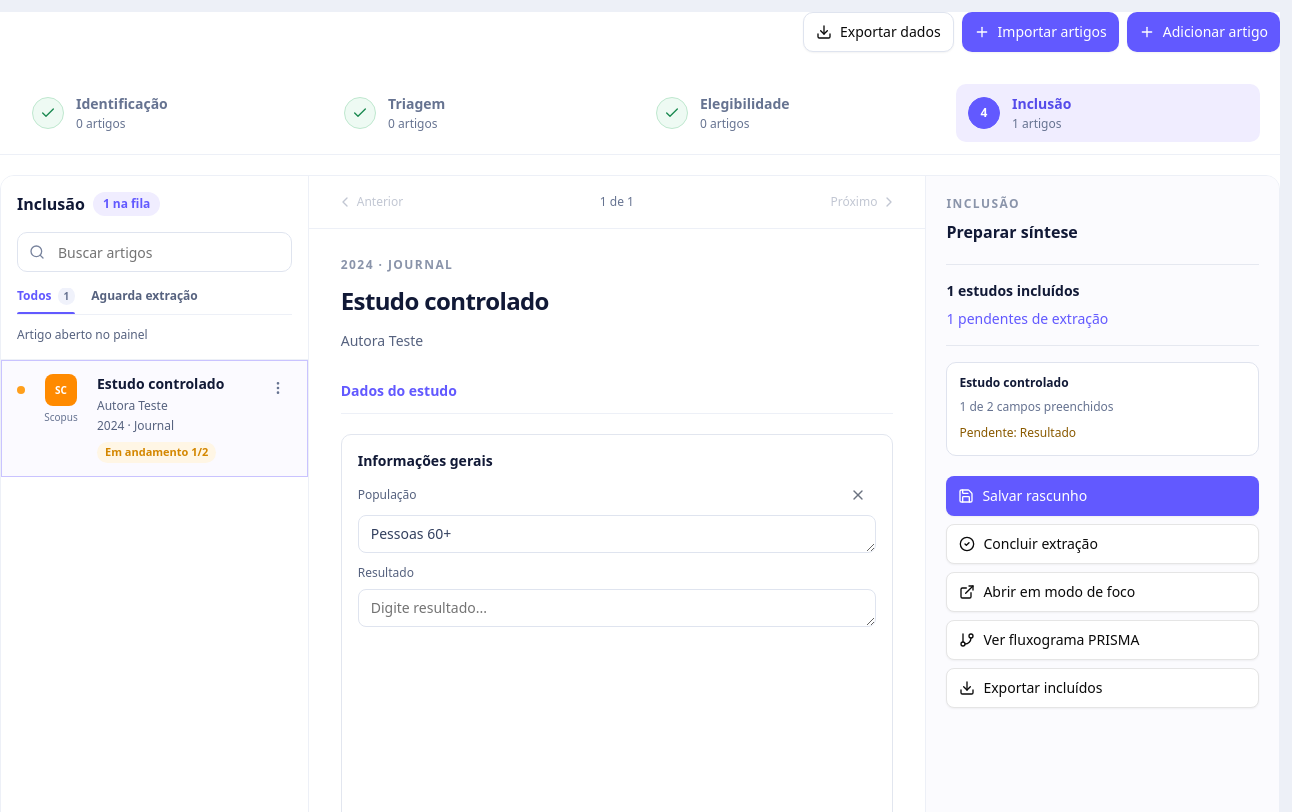
Test case: ProjectArticles work queue › saves included-study extraction inside the workspace and refreshes queue progress
This screenshot has width=1292, height=812.
Type "Melhora significativa" into the text box with placeholder "Digite resultado...". click: (617, 608)
box: [358,589,876,627]
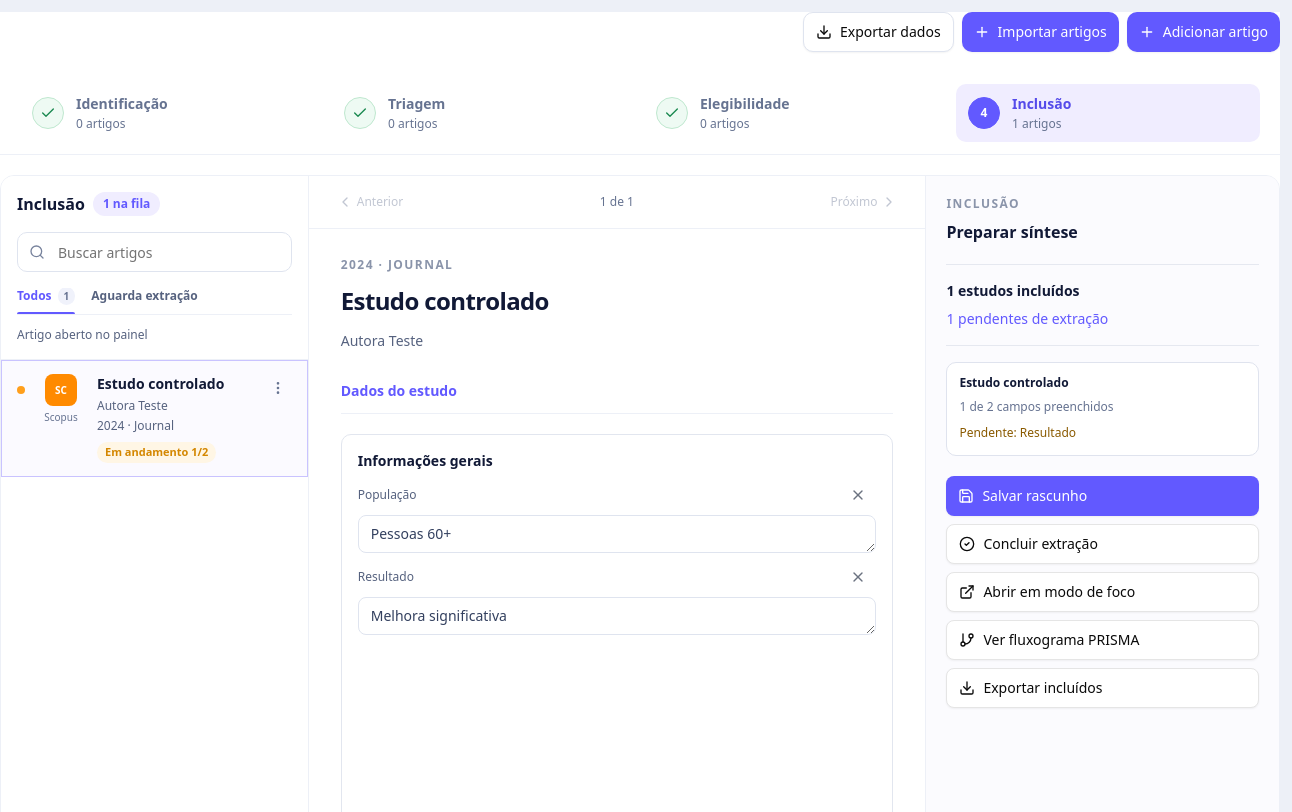
Click the button "Salvar rascunho". click: (1035, 496)
box: [946,476,1259,516]
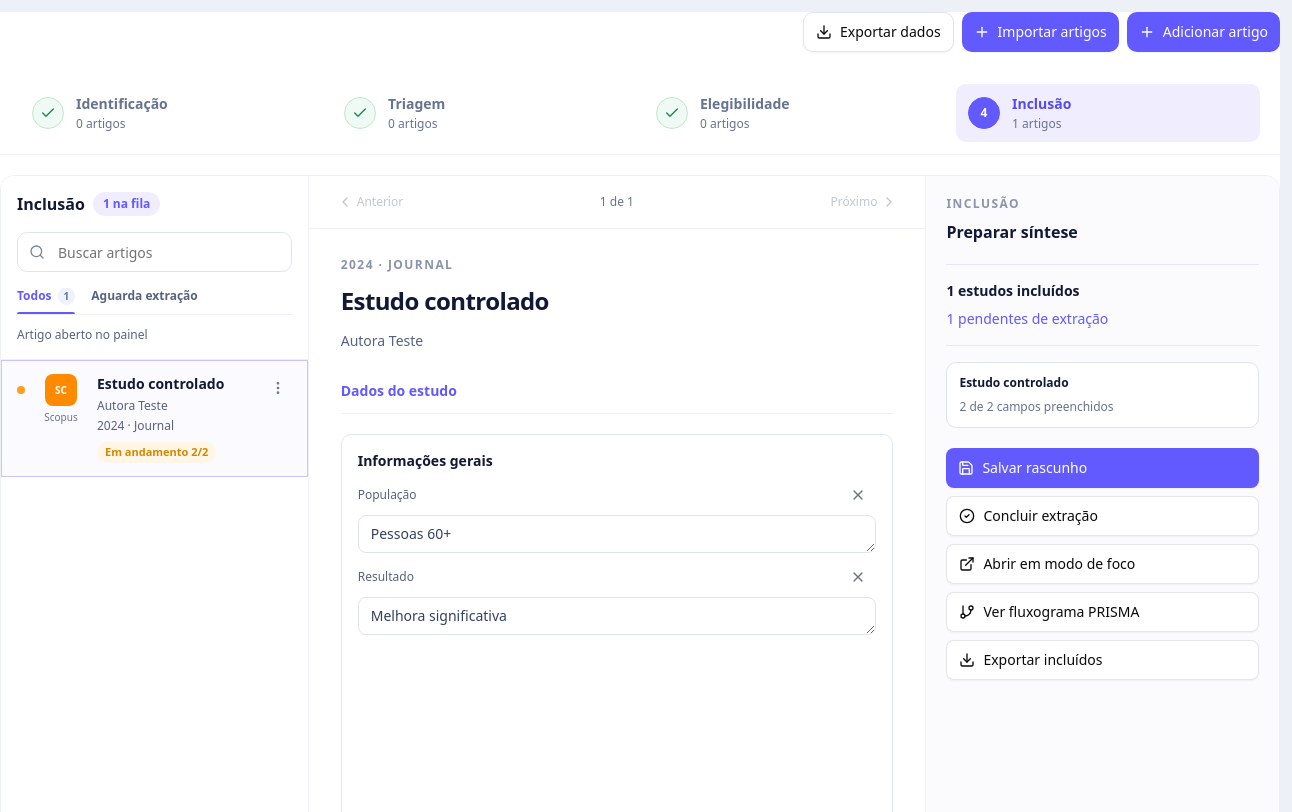
expect the text "Em andamento 2/2" is shown: met, box [97,442,216,462]
